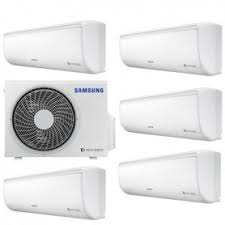ac: (117, 20, 225, 79), (118, 150, 225, 206), (3, 19, 106, 77), (119, 87, 224, 143), (2, 170, 110, 220)
